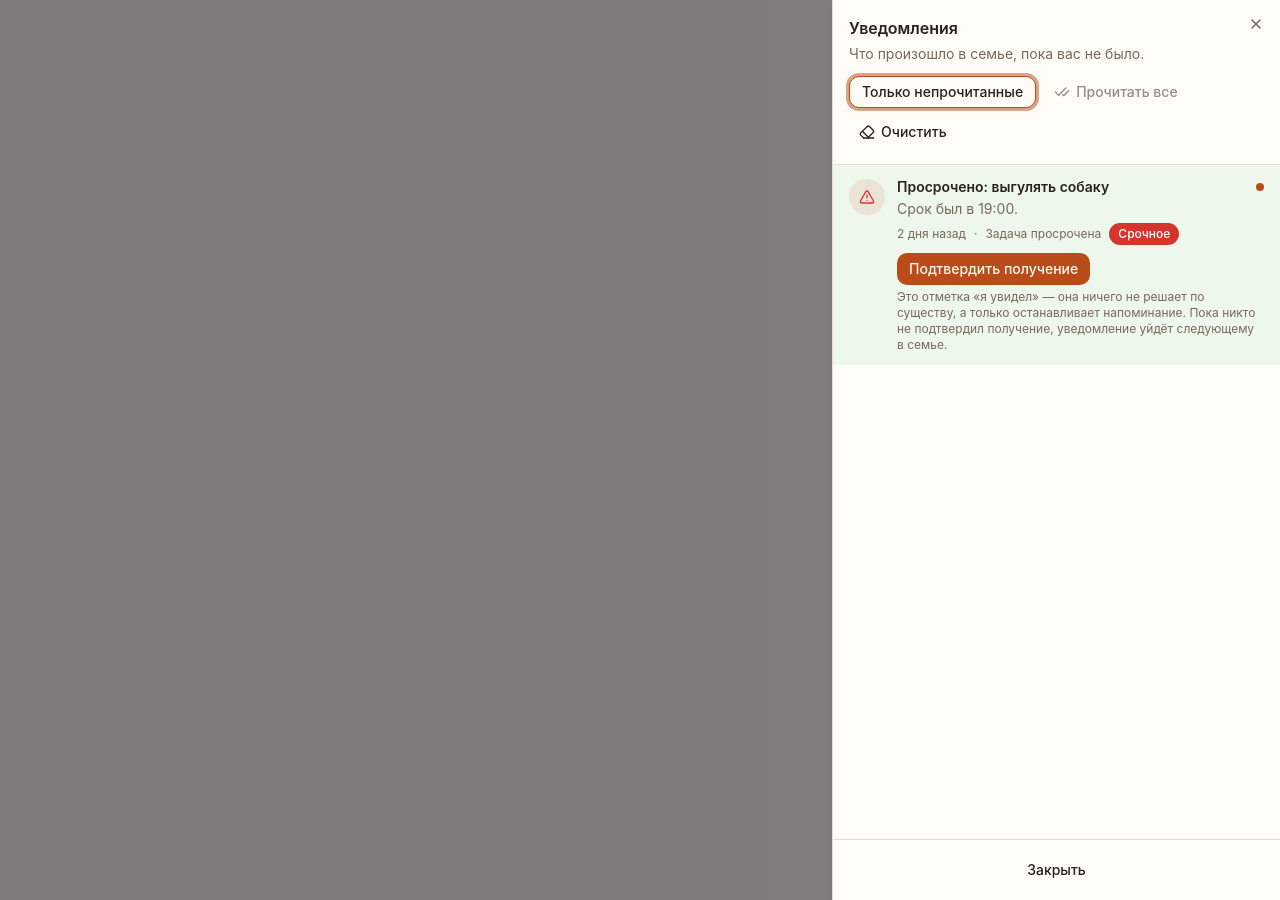
«Очистить» — the inbox’s one destructive action › opens a dialog instead of clearing, and states the counts before it does
What coordinates should you click on to do the following:
click the button "Очистить"
I would click on:
 (903, 132)
Its box is [849,116,957,148].
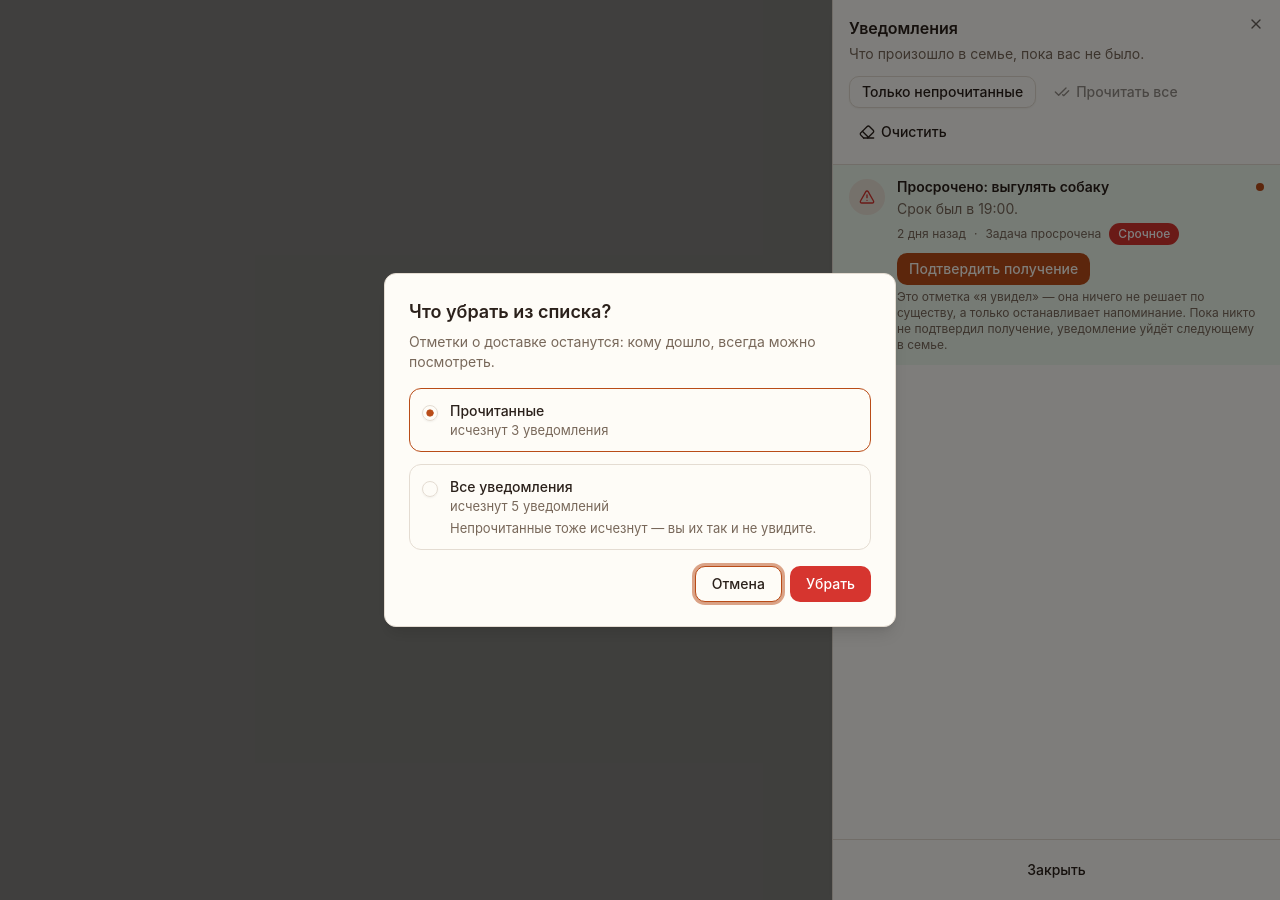
Check: the text "исчезнут 3 уведомления" is shown, box [450,422,608,438]
Check: the text "исчезнут 5 уведомлений" is shown, box [450,498,609,514]
Check: the text "Отметки о доставке останутся: кому дошло, всегда можно посмотреть." is shown, box [409,332,871,372]
